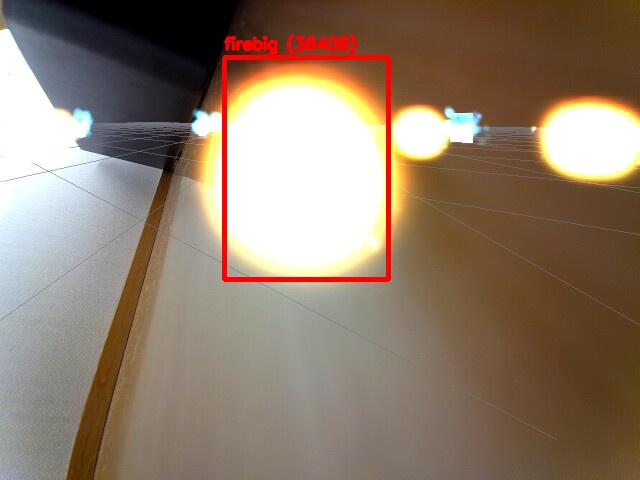firebig: (224, 57, 388, 279)
